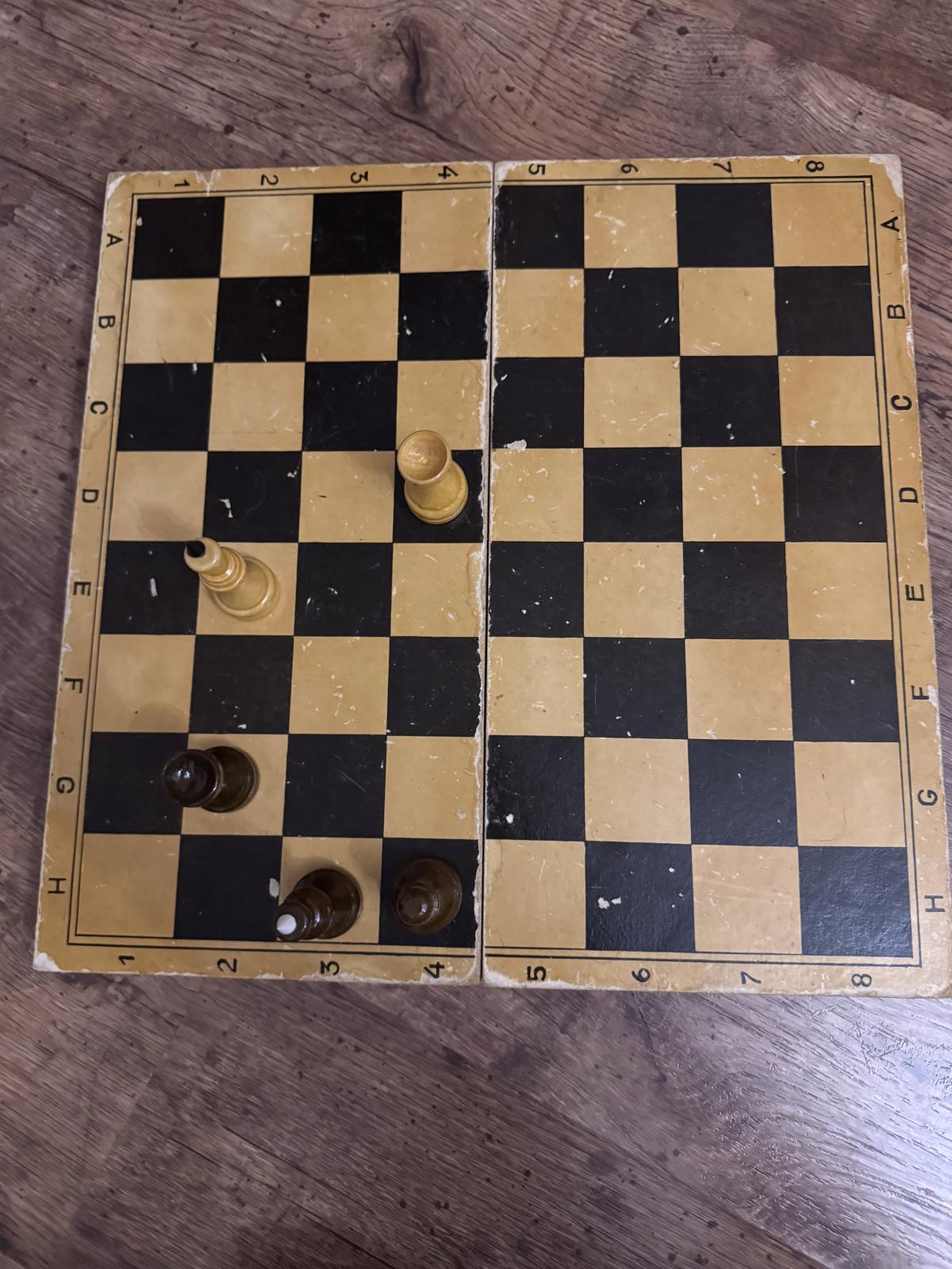Chess-Board: (75, 182, 913, 956)
